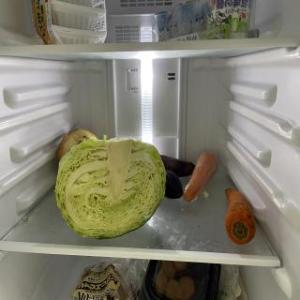cabbage: (56, 137, 168, 237)
carrot: (222, 186, 258, 242), (182, 149, 218, 203)
eggplant: (160, 153, 196, 179), (162, 168, 182, 199)
onion: (57, 126, 100, 162)
